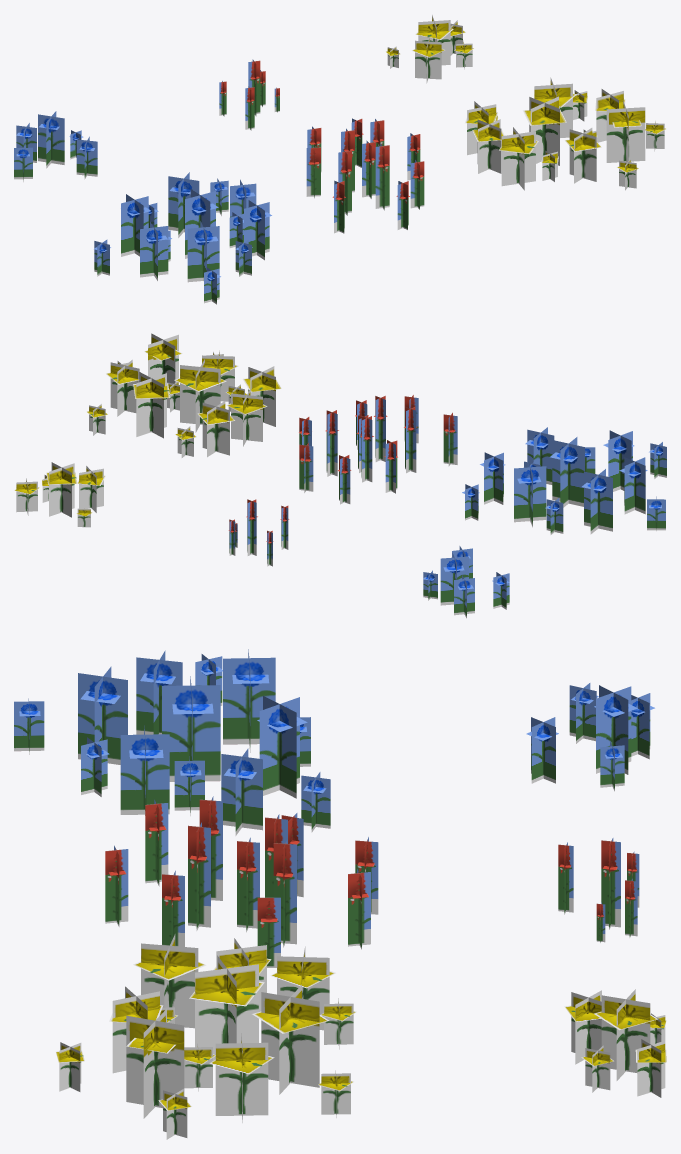
File: GrassLandFlowerPatches.fbx
The picture shows the model from 3 angles, top to bottom: view 1: azimuth 30°, elevation 25°; view 2: azimuth 150°, elevation 25°; view 3: azimuth 270°, elevation 25°; orthographic projection. The views are drawn at different scales.
Visible parts, largest first — view 1: YellowFlowerPatchLarge, BlueFlowerPatchLarge, RedFlowerPatchLarge, BlueFlowerPatchSmall, YellowFlowerPatchSmall, RedFlowerPatchSmall; view 2: YellowFlowerPatchLarge, BlueFlowerPatchLarge, RedFlowerPatchLarge, YellowFlowerPatchSmall, BlueFlowerPatchSmall, RedFlowerPatchSmall; view 3: YellowFlowerPatchLarge, BlueFlowerPatchLarge, RedFlowerPatchLarge, YellowFlowerPatchSmall, BlueFlowerPatchSmall, RedFlowerPatchSmall.
Part boxes in pixels (left/top/right/bottom): YellowFlowerPatchLarge: left=465, top=77, right=666, bottom=190; BlueFlowerPatchLarge: left=94, top=172, right=271, bottom=304; RedFlowerPatchLarge: left=306, top=118, right=424, bottom=233; BlueFlowerPatchSmall: left=14, top=111, right=97, bottom=181; YellowFlowerPatchSmall: left=386, top=15, right=474, bottom=83; RedFlowerPatchSmall: left=219, top=59, right=279, bottom=130; YellowFlowerPatchLarge: left=86, top=333, right=281, bottom=457; BlueFlowerPatchLarge: left=462, top=427, right=666, bottom=534; RedFlowerPatchLarge: left=299, top=395, right=457, bottom=504; YellowFlowerPatchSmall: left=14, top=462, right=105, bottom=527; BlueFlowerPatchSmall: left=423, top=546, right=509, bottom=618; RedFlowerPatchSmall: left=228, top=499, right=289, bottom=566; YellowFlowerPatchLarge: left=56, top=934, right=356, bottom=1139; BlueFlowerPatchLarge: left=14, top=649, right=330, bottom=835; RedFlowerPatchLarge: left=105, top=796, right=378, bottom=967; YellowFlowerPatchSmall: left=564, top=989, right=666, bottom=1097; BlueFlowerPatchSmall: left=526, top=683, right=654, bottom=791; RedFlowerPatchSmall: left=558, top=838, right=639, bottom=942.
Bounding box in the file's own units: 9.44 × 1 × 5.93.
1 material, 1 textured.
